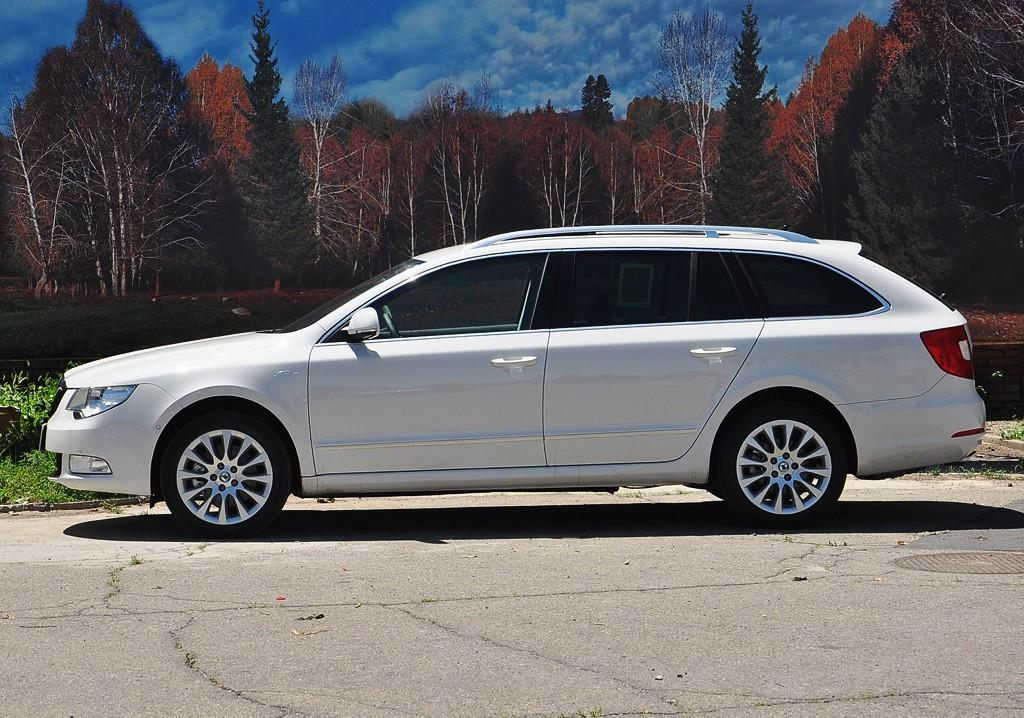Wagon: (42, 224, 987, 541)
